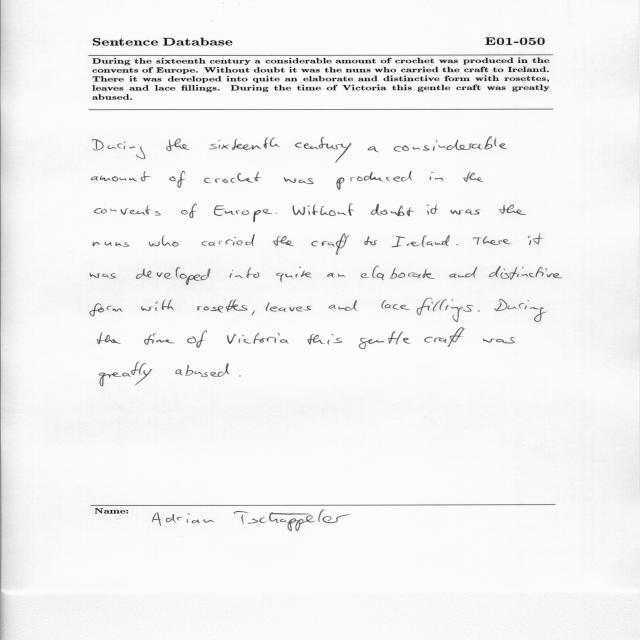word: (394, 137, 507, 152), (295, 137, 351, 163), (336, 171, 412, 190), (417, 298, 473, 322), (136, 267, 210, 285), (100, 362, 153, 386), (495, 299, 547, 322), (93, 139, 146, 159), (361, 266, 435, 280), (489, 266, 563, 280), (214, 206, 272, 223), (359, 331, 411, 349), (209, 137, 280, 150), (312, 233, 350, 255), (424, 327, 465, 347), (176, 363, 230, 377), (293, 204, 355, 216), (391, 235, 450, 247), (227, 333, 288, 344), (94, 206, 161, 216), (197, 300, 248, 313), (91, 171, 151, 182), (202, 234, 255, 246), (204, 172, 261, 183), (277, 267, 312, 282), (371, 204, 414, 216), (90, 303, 123, 317), (266, 302, 312, 312), (141, 299, 175, 311), (145, 333, 175, 345), (187, 330, 207, 348), (308, 334, 343, 344), (473, 236, 511, 245), (149, 236, 179, 247), (230, 267, 260, 278), (450, 267, 478, 278), (329, 300, 357, 311), (166, 138, 189, 151), (499, 204, 526, 215), (381, 300, 410, 310), (169, 171, 185, 188), (97, 333, 121, 344), (181, 204, 197, 218), (93, 241, 129, 247), (284, 177, 314, 184), (463, 172, 484, 182), (273, 236, 294, 246), (483, 337, 515, 343), (528, 233, 543, 245), (451, 209, 480, 215), (90, 273, 116, 279), (430, 172, 444, 181), (427, 204, 438, 215), (365, 237, 378, 246), (327, 273, 345, 277), (368, 146, 379, 152), (252, 311, 255, 316), (457, 244, 459, 245), (478, 311, 480, 312), (239, 376, 241, 377), (276, 213, 277, 214)
